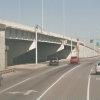Bridge: (3, 13, 96, 55)
